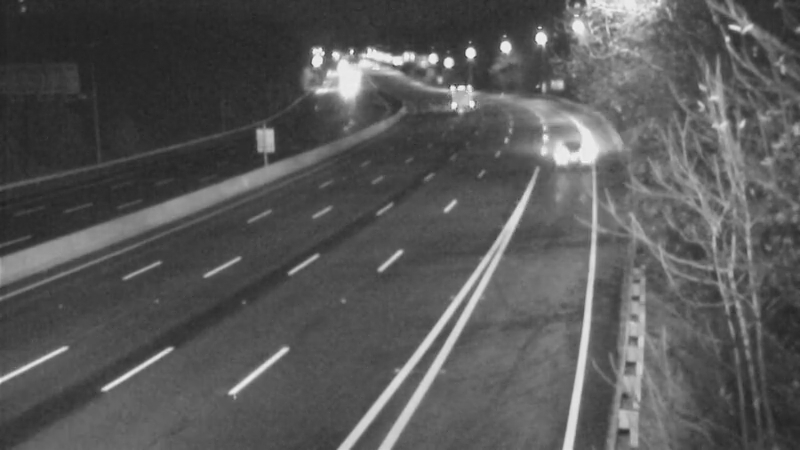vehicle: (525, 116, 605, 196), (426, 70, 476, 120), (323, 66, 373, 116)
